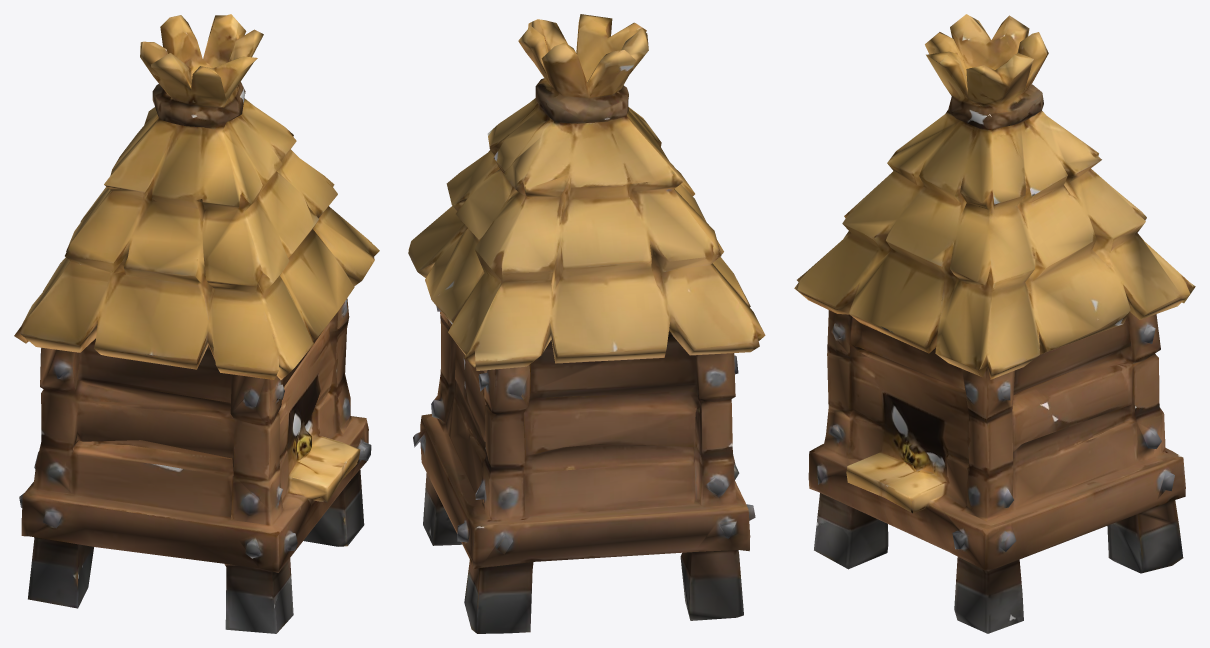
File: dec_beehive.glb
3 views of the same model, side by side, from view 1: azimuth 30°, elevation 25°; view 2: azimuth 150°, elevation 25°; view 3: azimuth 270°, elevation 25° (orthographic). The views are drawn at different scales.
Parts seen in each view (by area): view 1: BakeLow; view 2: BakeLow; view 3: BakeLow.
Part boxes in pixels (x1,y1,x2,y2): BakeLow: (14,14,379,633); BakeLow: (408,14,765,633); BakeLow: (794,14,1195,633).
Bounding box in the file's own units: 0.5634 × 0.8161 × 0.564.
1 material, 1 textured.
